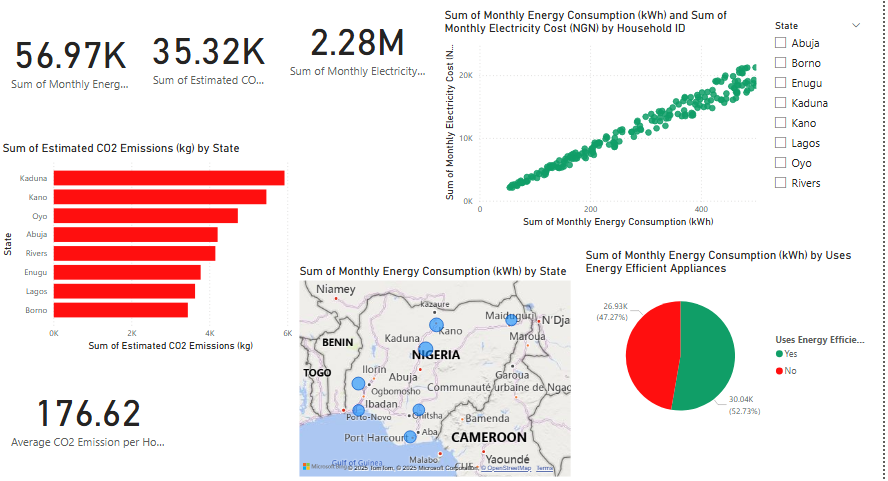

What the dashboard file says about the page in this screenshot:
{"tool":"powerbi","page":{"name":"Page 1","canvas":[1280,720],"ordinal":0},"visuals":[{"type":"card","fields":{"Values":["Sum(Nigeria_Household_Energy_Efficiency.Monthly Energy Consumption (kWh))"]},"box":[10.1,0,184.8,166.3],"z":0},{"type":"card","fields":{"Values":["Sum(Nigeria_Household_Energy_Efficiency.Estimated CO2 Emissions (kg))"]},"box":[215,0,178.1,154.5],"z":1000},{"type":"card","fields":{"Values":["Sum(Nigeria_Household_Energy_Efficiency.Monthly Electricity Cost (NGN))"]},"box":[414.9,0,210,129.3],"z":2000},{"type":"map","fields":{"Category":["Nigeria_Household_Energy_Efficiency.State"],"Size":["Sum(Nigeria_Household_Energy_Efficiency.Monthly Energy Consumption (kWh))"]},"box":[430.5,382,402.6,313],"z":3000},{"type":"clusteredBarChart","fields":{"Category":["Nigeria_Household_Energy_Efficiency.State"],"Y":["Sum(Nigeria_Household_Energy_Efficiency.Estimated CO2 Emissions (kg))"]},"box":[0,204.9,430,309.1],"z":4000},{"type":"scatterChart","fields":{"X":["Sum(Nigeria_Household_Energy_Efficiency.Monthly Energy Consumption (kWh))"],"Y":["Sum(Nigeria_Household_Energy_Efficiency.Monthly Electricity Cost (NGN))"],"Category":["Nigeria_Household_Energy_Efficiency.Household ID"]},"box":[640,11.8,472,322.5],"z":5000},{"type":"pieChart","fields":{"Category":["Nigeria_Household_Energy_Efficiency.Uses Energy Efficient Appliances"],"Y":["Sum(Nigeria_Household_Energy_Efficiency.Monthly Energy Consumption (kWh))"]},"box":[844.9,360,417.3,274.8],"z":6000},{"type":"slicer","fields":{"Values":["Nigeria_Household_Energy_Efficiency.State"]},"box":[1112,25.2,149.5,280.5],"z":7000},{"type":"card","fields":{"Values":["Nigeria_Household_Energy_Efficiency.Average CO2 Emission per Household"]},"box":[10.1,517.4,236.9,168],"z":8000}]}

Visuals, with their boxes on the page's 1280x720 design canvas (x1, y1, x2, y2). These are canvas units, not pixel positions in the 888x481 screenshot, which may show the page scaled, cropped or inside an application window:
card - Sum(Nigeria_Household_Energy_Efficiency.Monthly Energy Consumption (kWh)): rect(10, 0, 195, 166)
card - Sum(Nigeria_Household_Energy_Efficiency.Estimated CO2 Emissions (kg)): rect(215, 0, 393, 154)
card - Sum(Nigeria_Household_Energy_Efficiency.Monthly Electricity Cost (NGN)): rect(415, 0, 625, 129)
map - Nigeria_Household_Energy_Efficiency.State x Sum(Nigeria_Household_Energy_Efficiency.Monthly Energy Consumption (kWh)): rect(430, 382, 833, 695)
clusteredBarChart - Nigeria_Household_Energy_Efficiency.State x Sum(Nigeria_Household_Energy_Efficiency.Estimated CO2 Emissions (kg)): rect(0, 205, 430, 514)
scatterChart - Sum(Nigeria_Household_Energy_Efficiency.Monthly Energy Consumption (kWh)) x Sum(Nigeria_Household_Energy_Efficiency.Monthly Electricity Cost (NGN)): rect(640, 12, 1112, 334)
pieChart - Nigeria_Household_Energy_Efficiency.Uses Energy Efficient Appliances x Sum(Nigeria_Household_Energy_Efficiency.Monthly Energy Consumption (kWh)): rect(845, 360, 1262, 635)
slicer - Nigeria_Household_Energy_Efficiency.State: rect(1112, 25, 1262, 306)
card - Nigeria_Household_Energy_Efficiency.Average CO2 Emission per Household: rect(10, 517, 247, 685)
